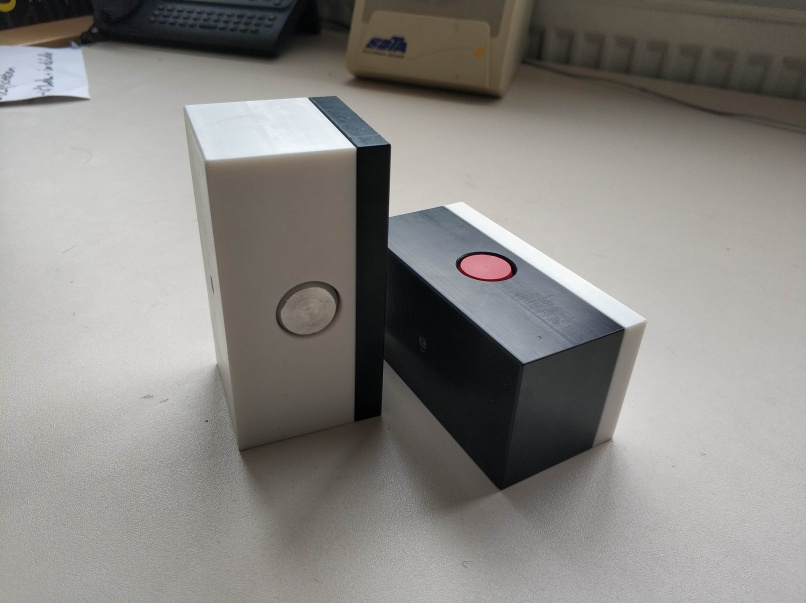black+white+silver: (181, 94, 393, 455)
white+black+red: (387, 198, 651, 493)
